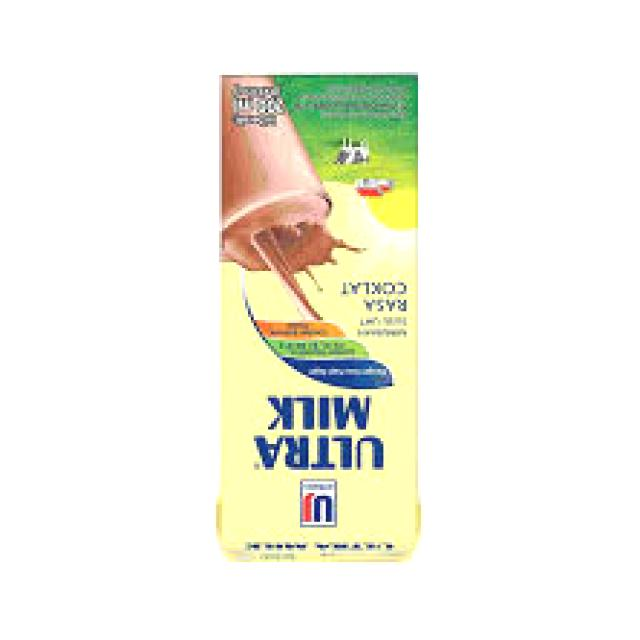susu_kotak: (208, 64, 432, 570)
